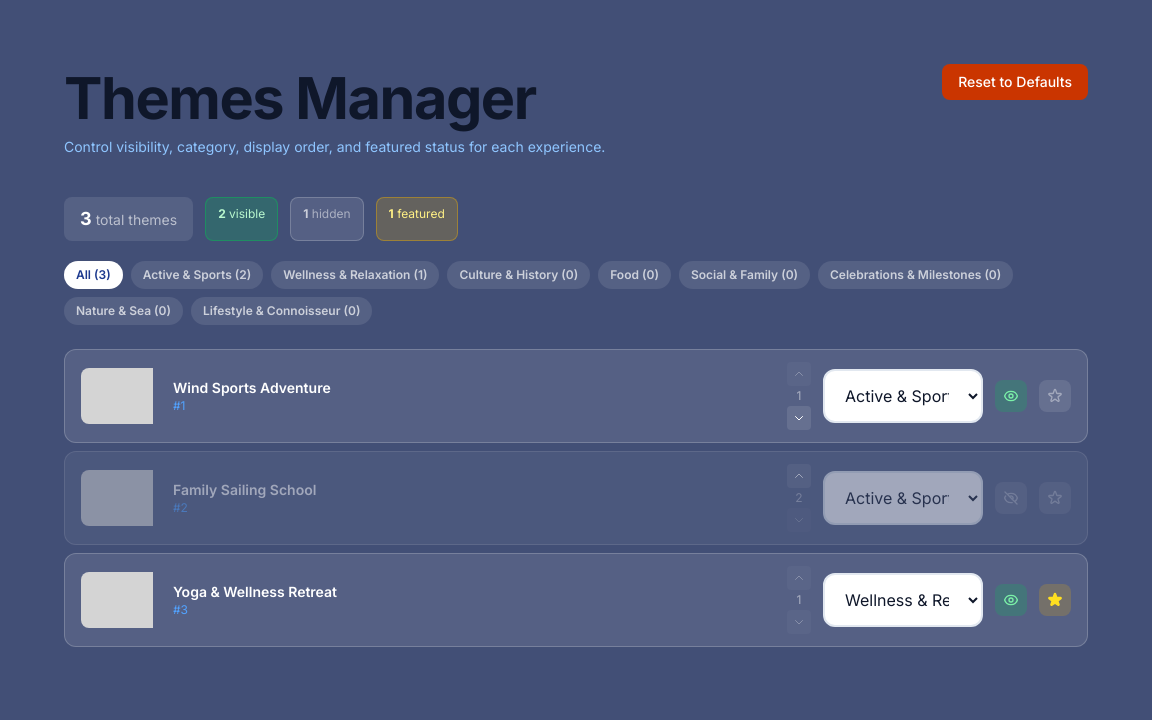
Test case: ThemesAdminClient — category filter tabs › clicking a category tab filters the visible rows
Expected: the text "Wind Sports Adventure" is shown, [173, 379, 331, 396]
What coordinates should you click on to do the following:
click the button "Wellness & Relaxation (1)"
I would click on:
 (355, 275)
Its box is [271, 261, 440, 289].
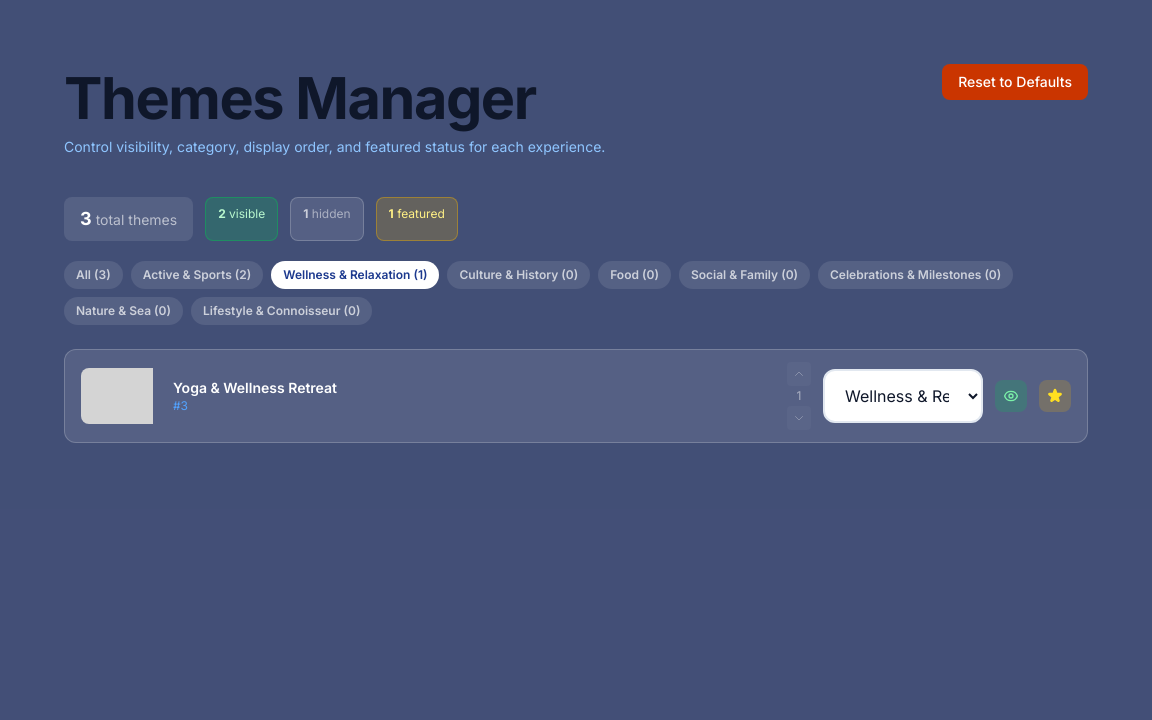
Expected: the text "Yoga & Wellness Retreat" is shown, [173, 379, 337, 396]
Expected: the text "Wind Sports Adventure" is gone
Expected: the text "Family Sailing School" is gone
